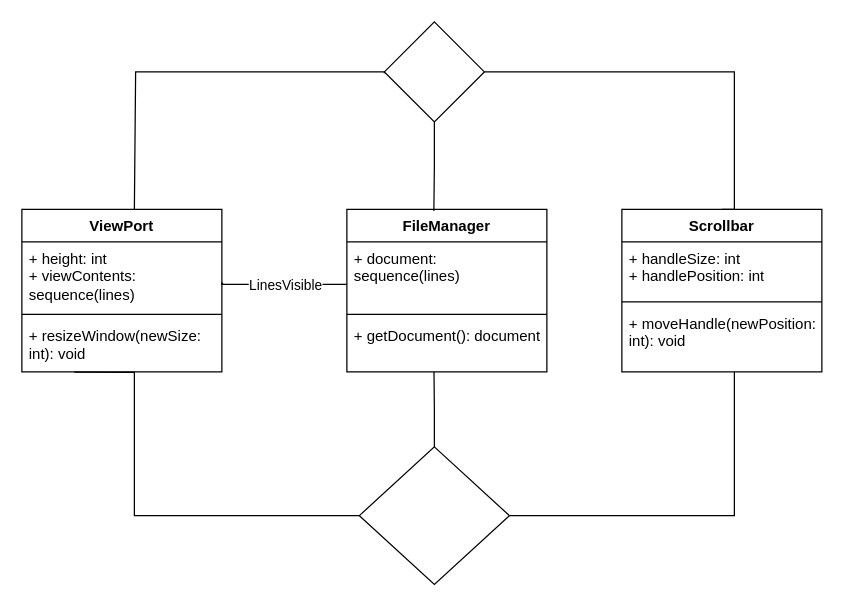
The diagram is 844 pixels wide and 606 high, and some of its shapes have lost their labels. The centre of each missing label's shape, as x and y in pixels:
"Displays" belongs at point 433,71.
"HandlePropotion" belongs at point 433,515.
